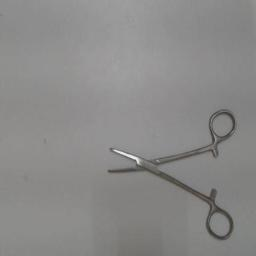Mayo Needle Holder: (102, 106, 240, 244)
